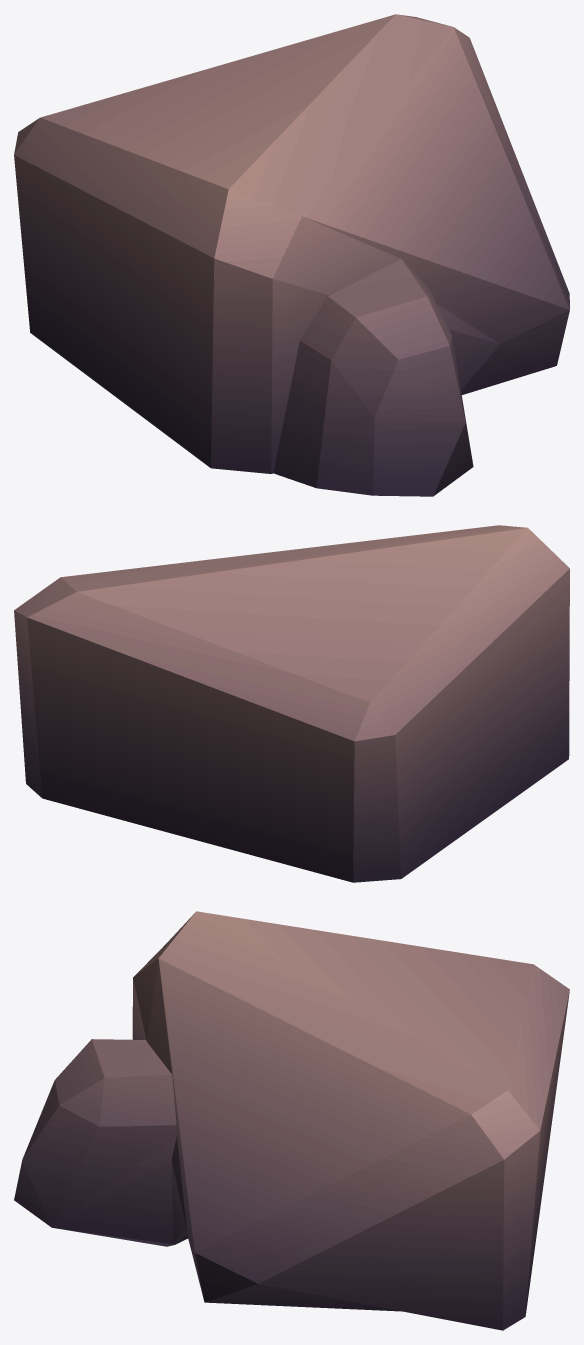
Rendered from rock2.fbx.
The picture shows the model from 3 angles, top to bottom: view 1: azimuth 30°, elevation 25°; view 2: azimuth 150°, elevation 25°; view 3: azimuth 270°, elevation 25°; orthographic projection. The views are drawn at different scales.
Parts seen in each view (by area): view 1: rock.005; view 2: rock.005; view 3: rock.005.
Boxes of the visible parts, left/top/right/bottom form: rock.005: left=14, top=14, right=569, bottom=496; rock.005: left=14, top=525, right=569, bottom=882; rock.005: left=14, top=911, right=569, bottom=1330.
Size of the model in its own units: 2.19 by 1.24 by 2.59.
